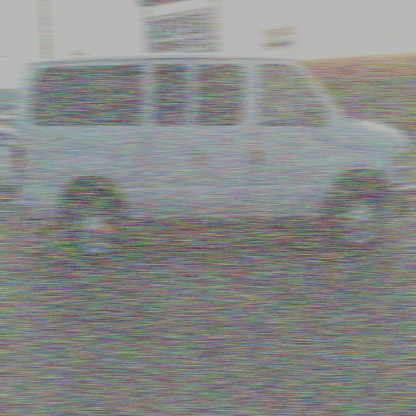Vehicle: (15, 56, 414, 266)
